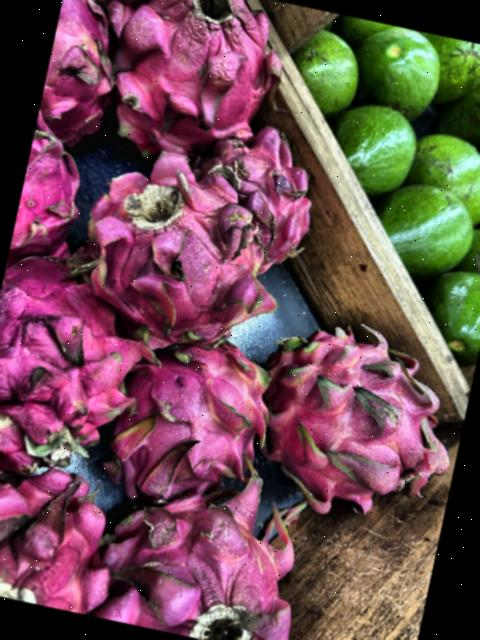buah-naga-matang: (70, 129, 306, 358), (236, 308, 470, 534), (80, 476, 331, 640), (0, 235, 159, 489), (106, 322, 286, 520), (91, 0, 307, 163), (192, 108, 331, 272), (0, 448, 128, 617), (36, 0, 143, 141), (12, 121, 98, 271)
